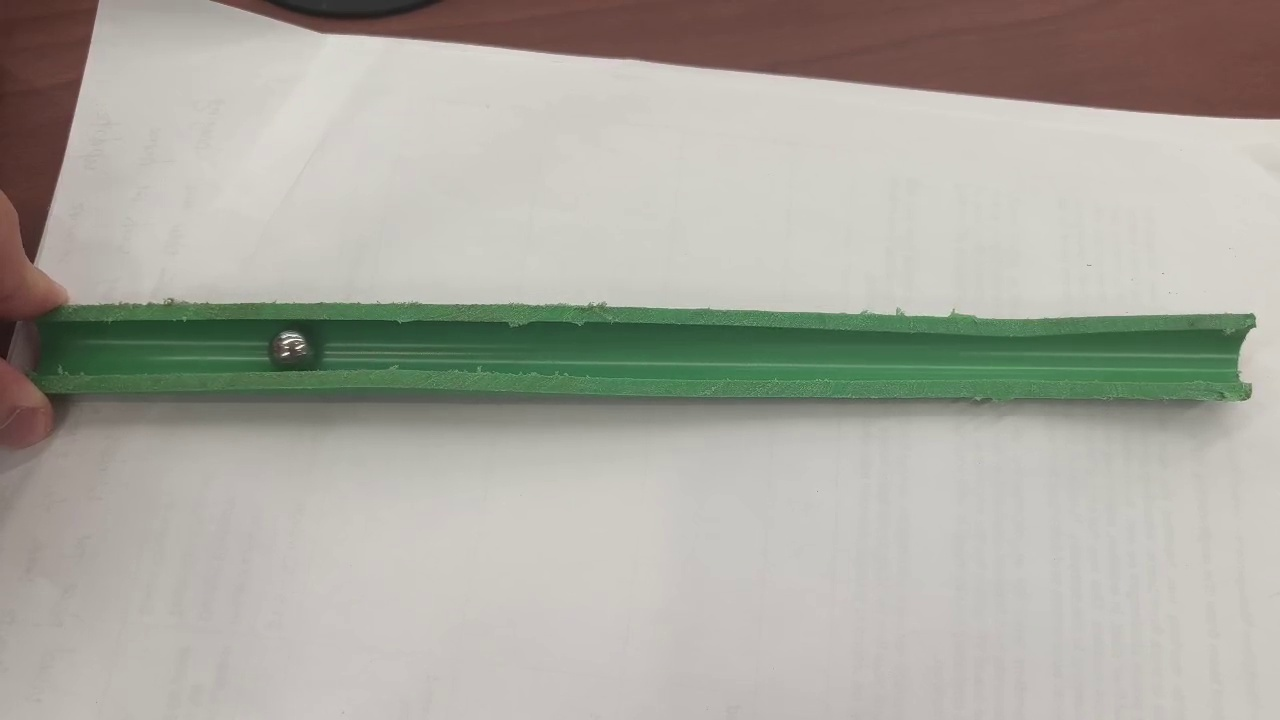ball: (272, 331, 308, 363)
